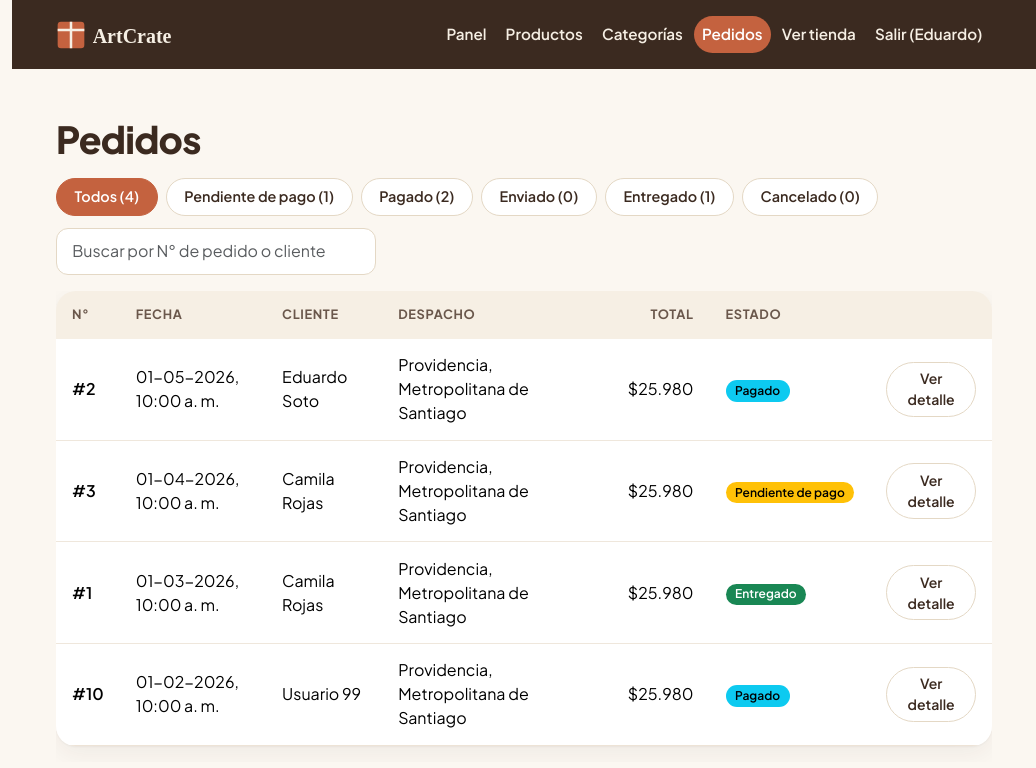
Test: Pedidos del panel › lista › los filtros por estado cuentan y filtran, y el estado queda en la URL
Expected: the row that starts with "01-03-2026, 10:00 a. m." is shown, [56, 542, 992, 644]
Expected: the button "Todos (4)" is shown, [56, 178, 158, 216]
Click the button "Pagado (2)". click: [417, 197]
box: [360, 178, 473, 216]
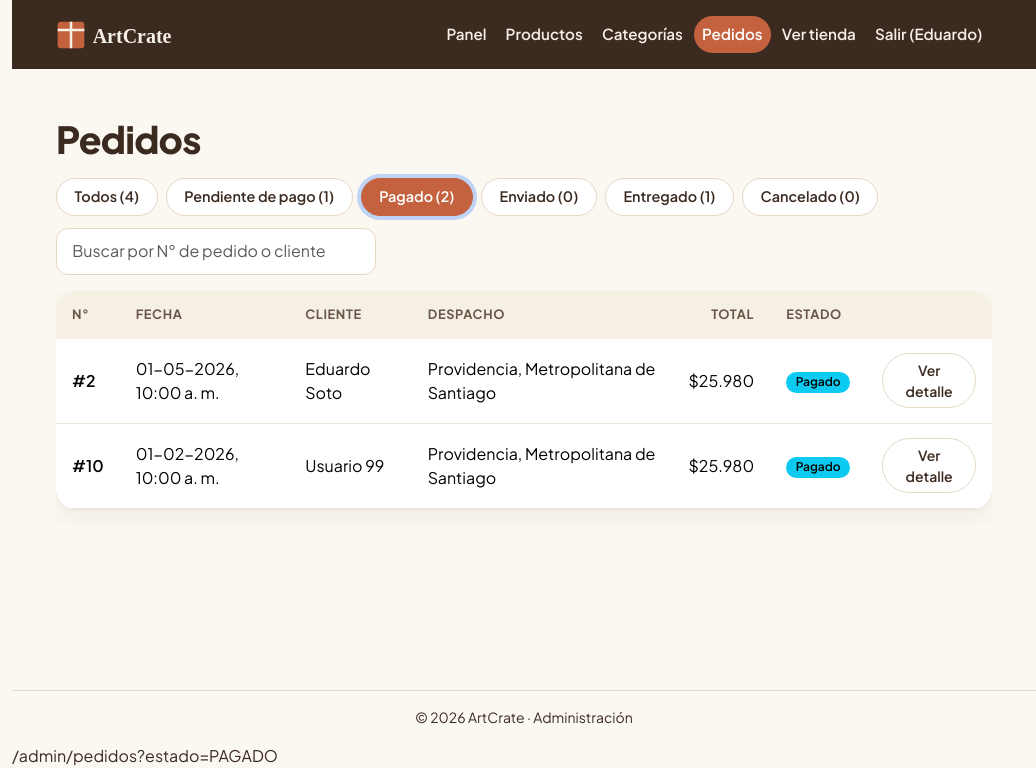
Now the text with test id "ruta" shows "?estado=PAGADO", box [12, 745, 278, 766]
